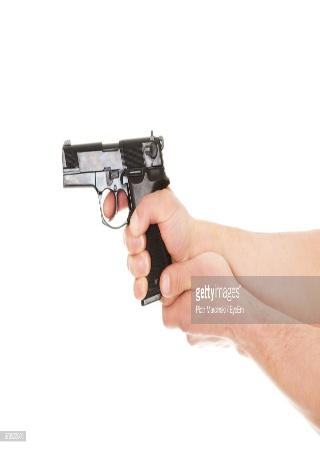weapon: (62, 128, 173, 306)
